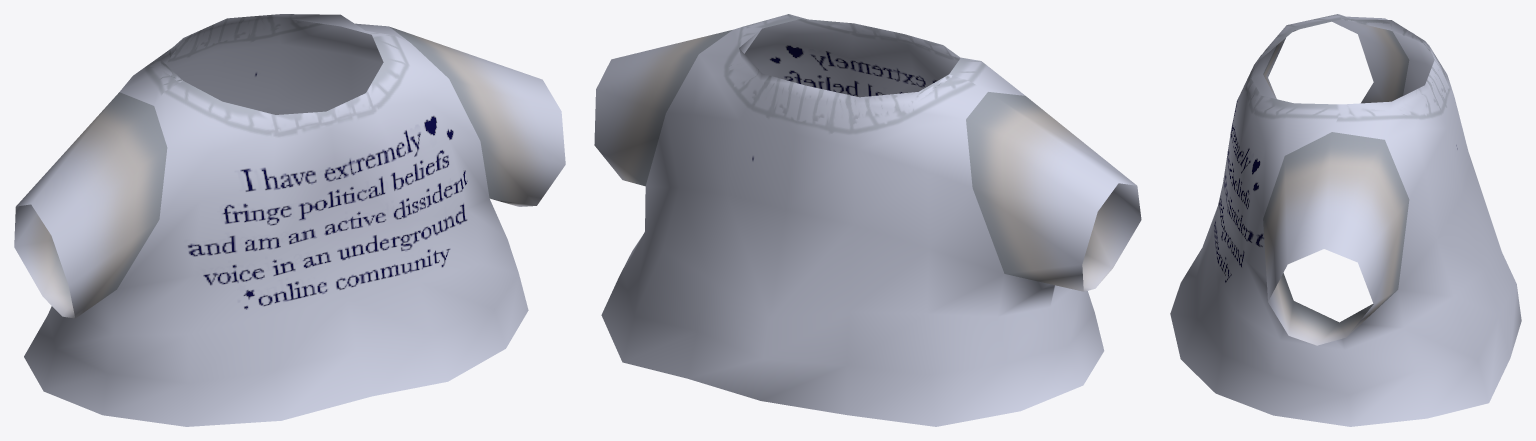
File: Active_Dissident.glb
3 renders of one model, left to right at view 1: azimuth 30°, elevation 25°; view 2: azimuth 150°, elevation 25°; view 3: azimuth 270°, elevation 25°, orthographic. The views are drawn at different scales.
Parts seen in each view (by area): view 1: Active_Dissident; view 2: Active_Dissident; view 3: Active_Dissident.
Boxes of the visible parts, x1,y1,x2,y2 form: Active_Dissident: (14, 14, 565, 426); Active_Dissident: (594, 14, 1141, 426); Active_Dissident: (1170, 14, 1521, 426).
Size of the model in its own units: 0.6125 by 0.3382 by 0.3939.
Materials: 1 (1 with a texture image).
